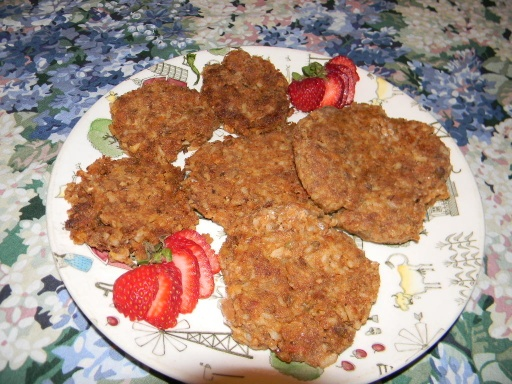background: (52, 30, 362, 221)
